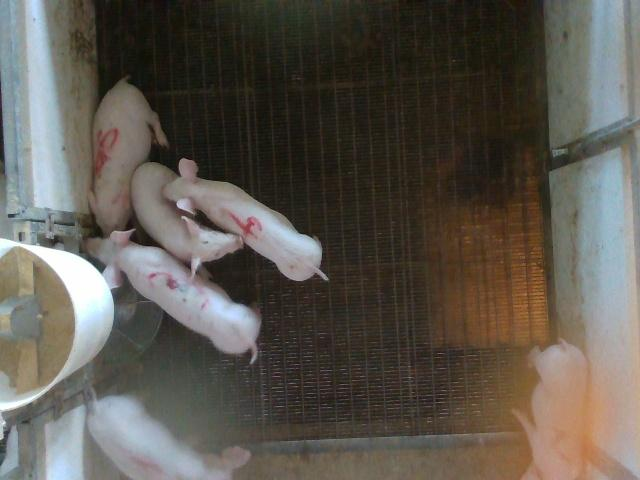pig-1: (88, 395, 208, 479)
pig-2: (514, 340, 588, 478)
pig-3: (86, 230, 261, 361)
pig-4: (164, 159, 328, 281)
pig-5: (89, 76, 168, 236)
